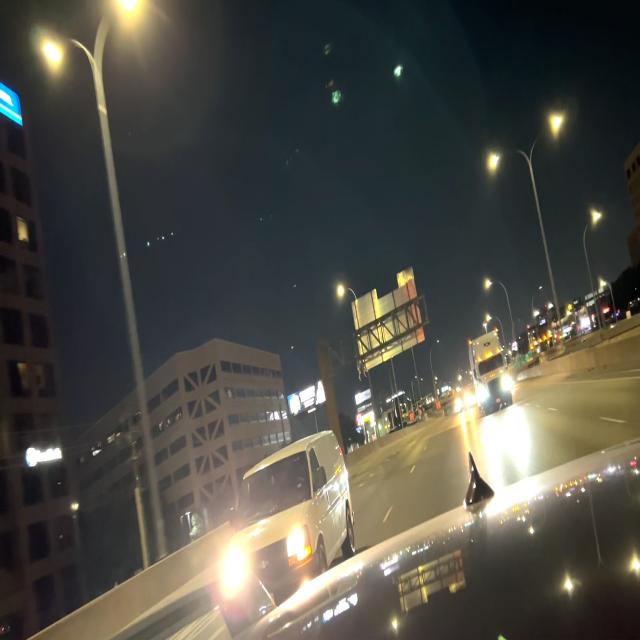back-of-sign: (352, 267, 426, 369)
